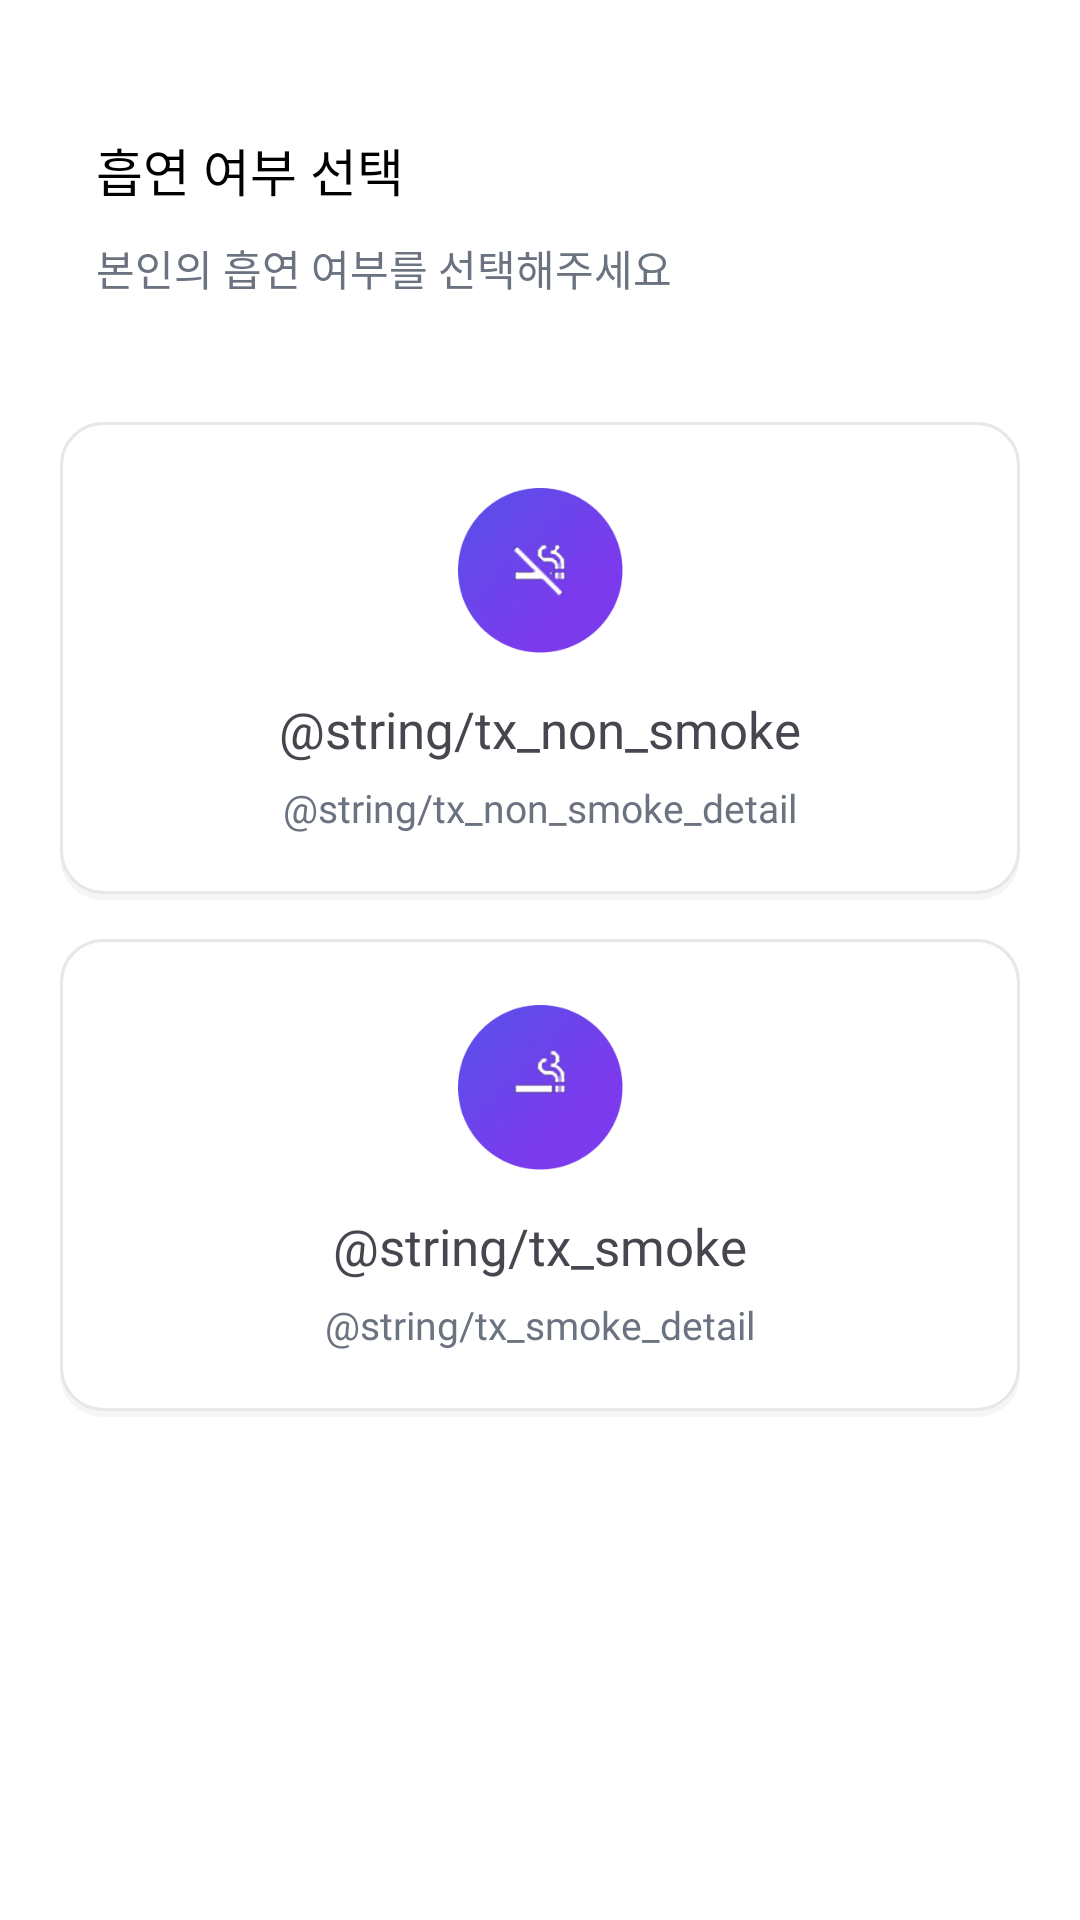

Point at icon controls on the screen. Image size 1080px×1920px, points as point (x, y).
no smoke: point (540, 570)
